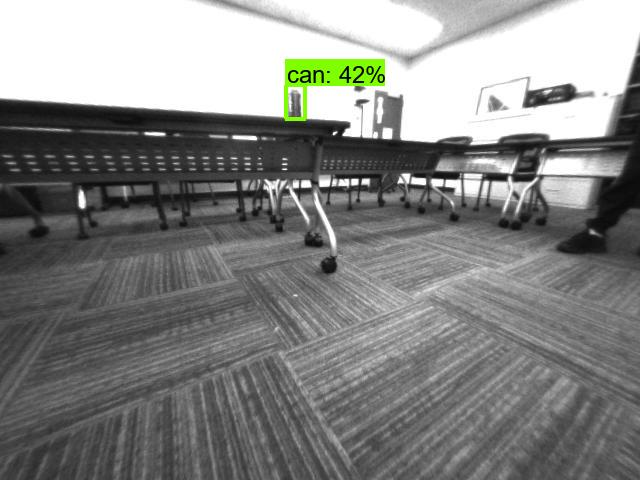can: (284, 86, 305, 117)
